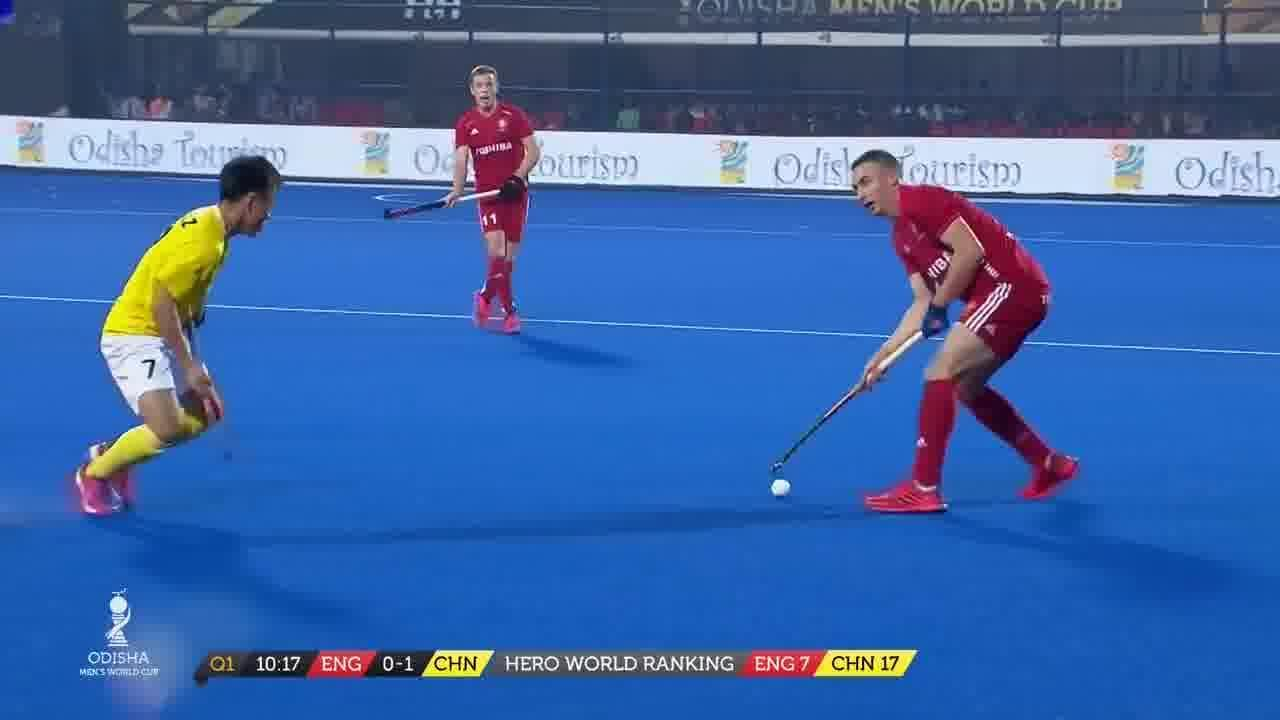ball: (762, 476, 794, 500)
